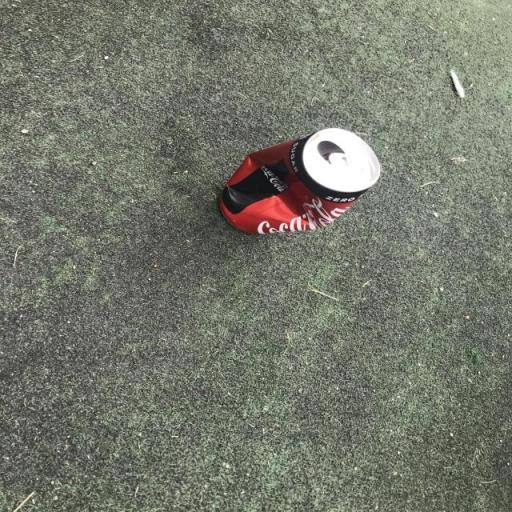metal: (183, 96, 434, 310)
